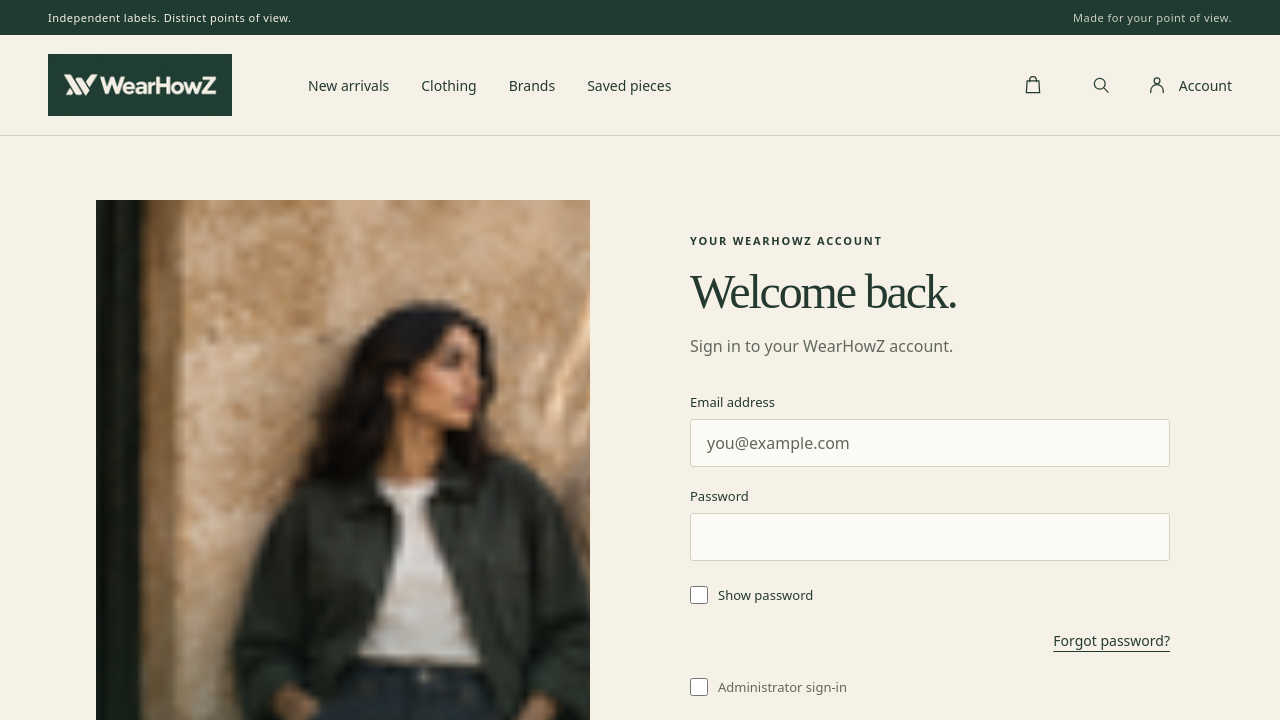
Test: signs in using the backend contract and displays the returned profile
Type "customer@example.com" into the field labelled "Email address" at (930, 443), box x1=690 y1=419 x2=1170 y2=467
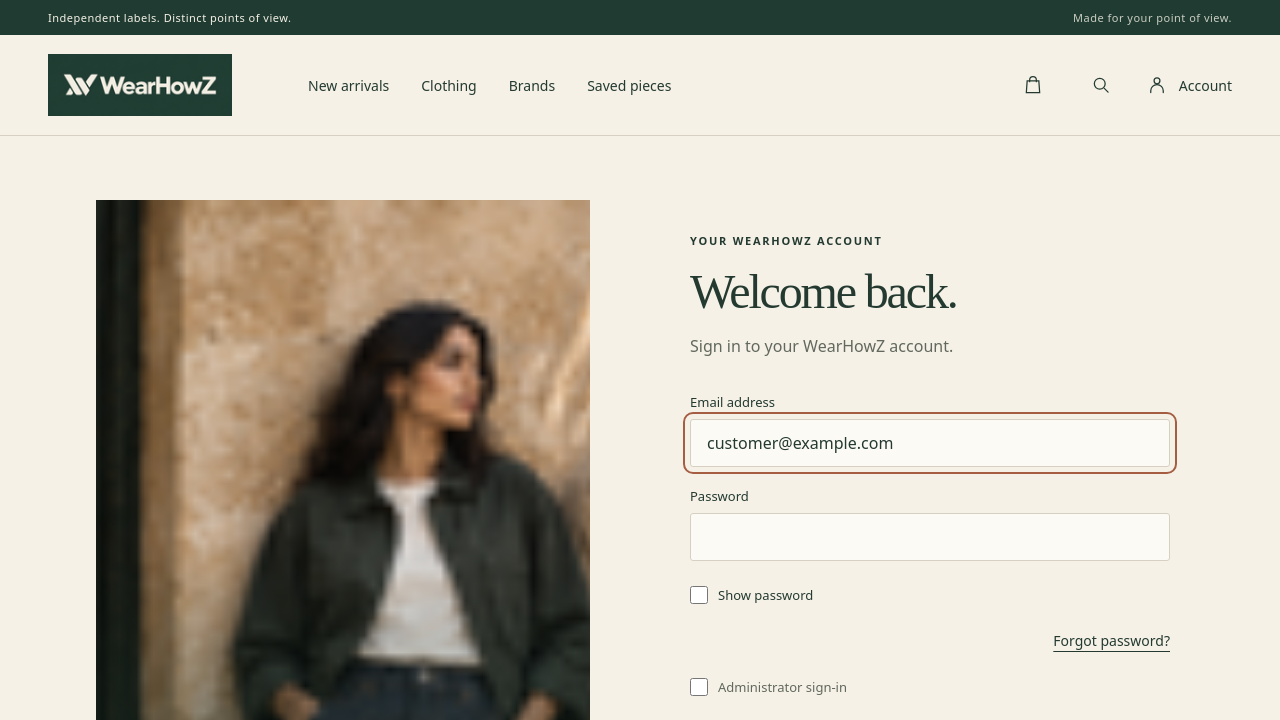
Type "Example123" into the password field labelled "Password" at (930, 537), box x1=690 y1=513 x2=1170 y2=561
(page scrolled)
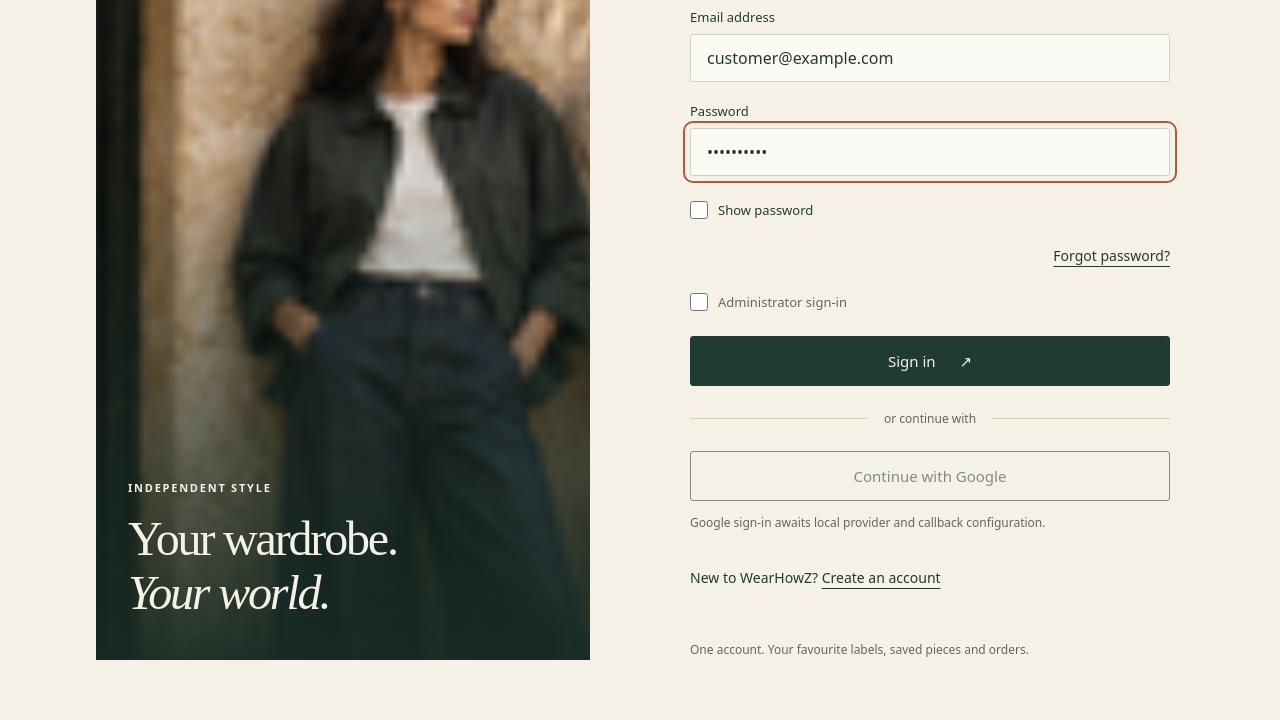
Click the button "Sign in ↗" at (930, 361), box x1=690 y1=336 x2=1170 y2=386
(page scrolled)
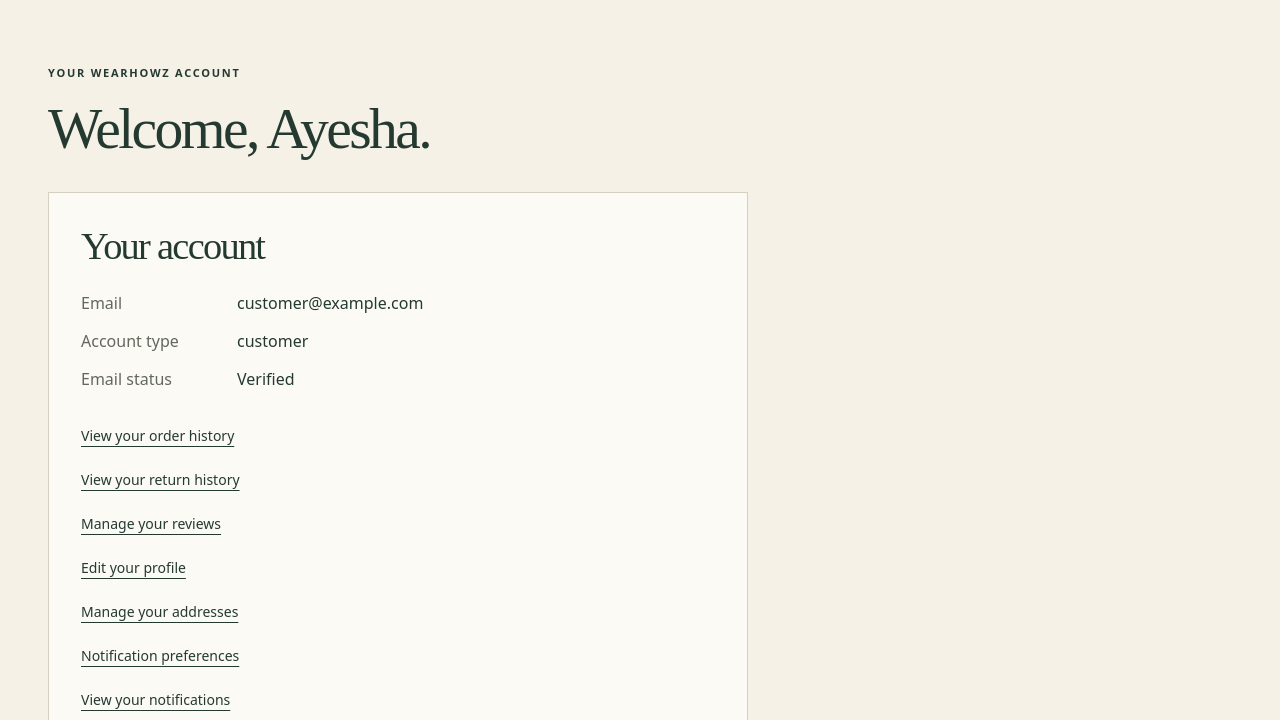
Now the heading "Welcome, Ayesha." is shown, box x1=48 y1=97 x2=430 y2=160
